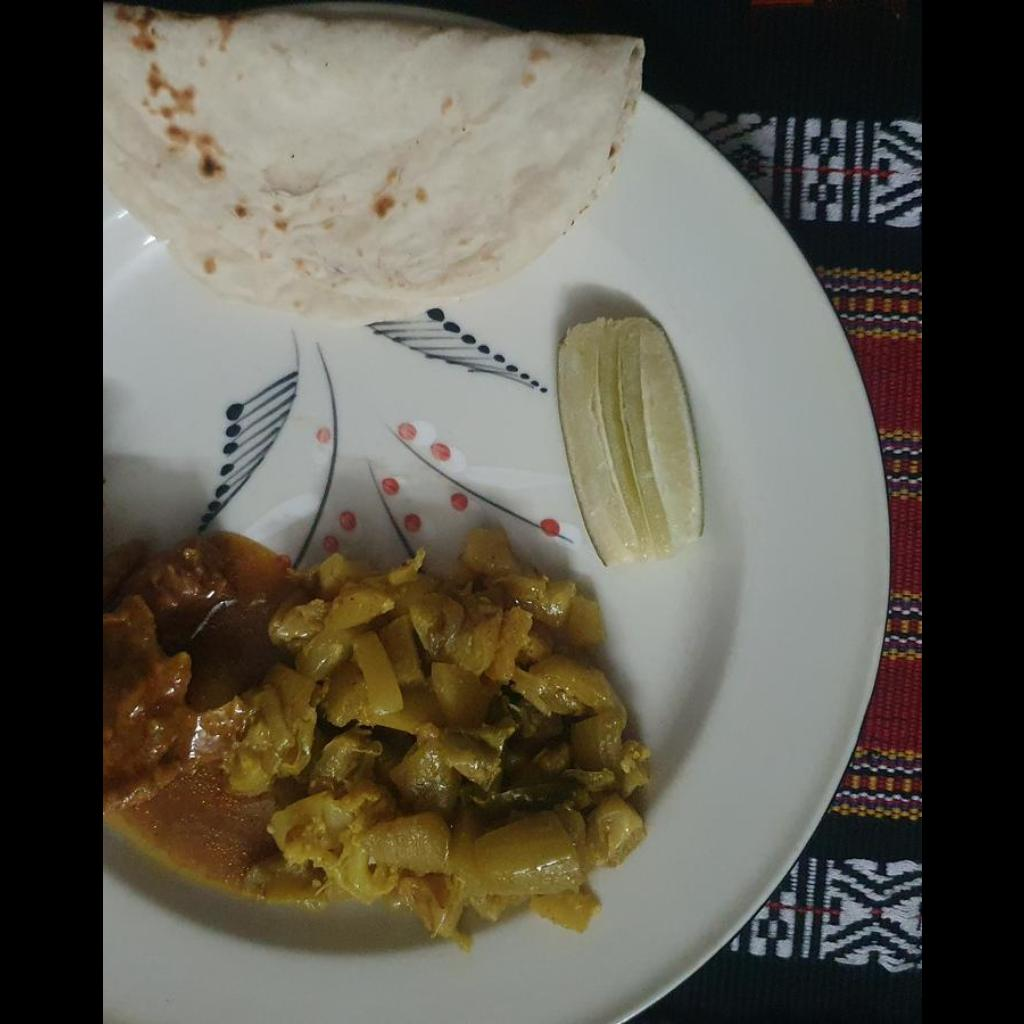lemon: (556, 320, 705, 570)
ruti: (106, 9, 643, 334)
vaji: (190, 517, 656, 941)
